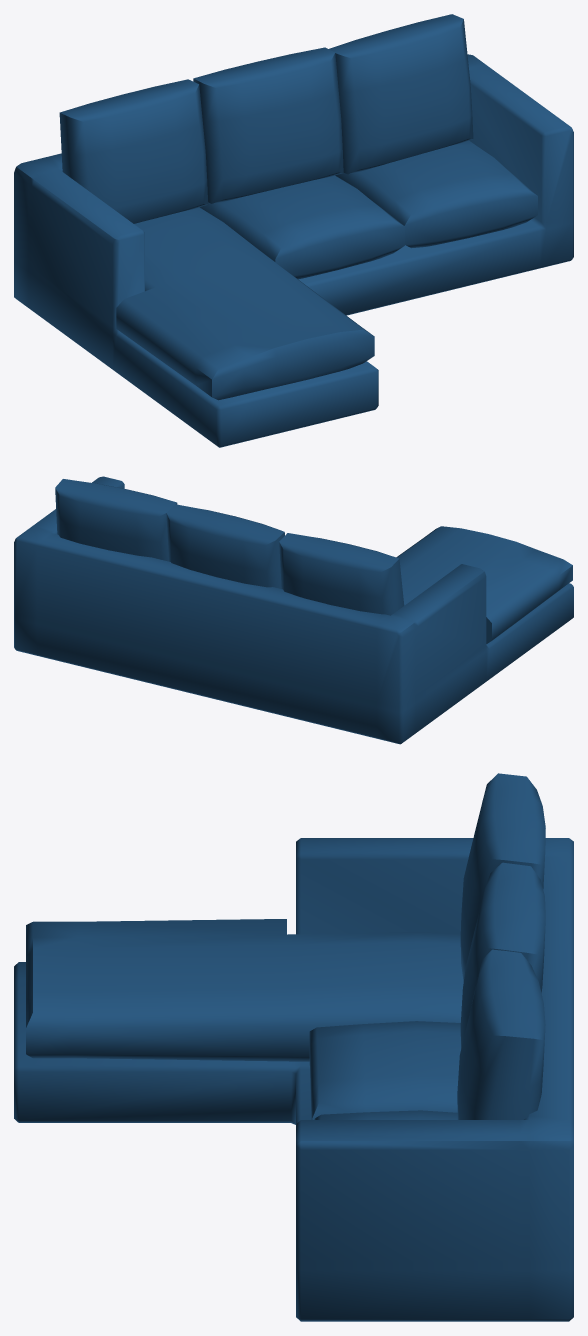
The model's file is couch.glb.
The picture shows the model from 3 angles, top to bottom: view 1: azimuth 30°, elevation 25°; view 2: azimuth 150°, elevation 25°; view 3: azimuth 270°, elevation 25°; orthographic projection. The views are drawn at different scales.
Parts seen in each view (by area): view 1: Couch_L; view 2: Couch_L; view 3: Couch_L.
Part boxes in pixels (<box>): Couch_L: <box>14,14,573,447</box>; Couch_L: <box>14,476,573,744</box>; Couch_L: <box>14,773,573,1321</box>.
Bounding box in the file's own units: 5.61 × 2.26 × 4.33.
